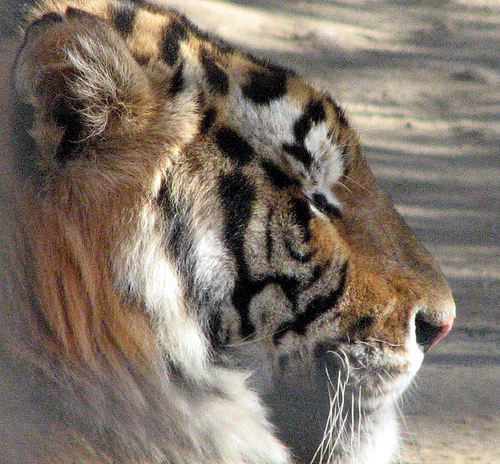Tigre: (21, 1, 470, 457)
